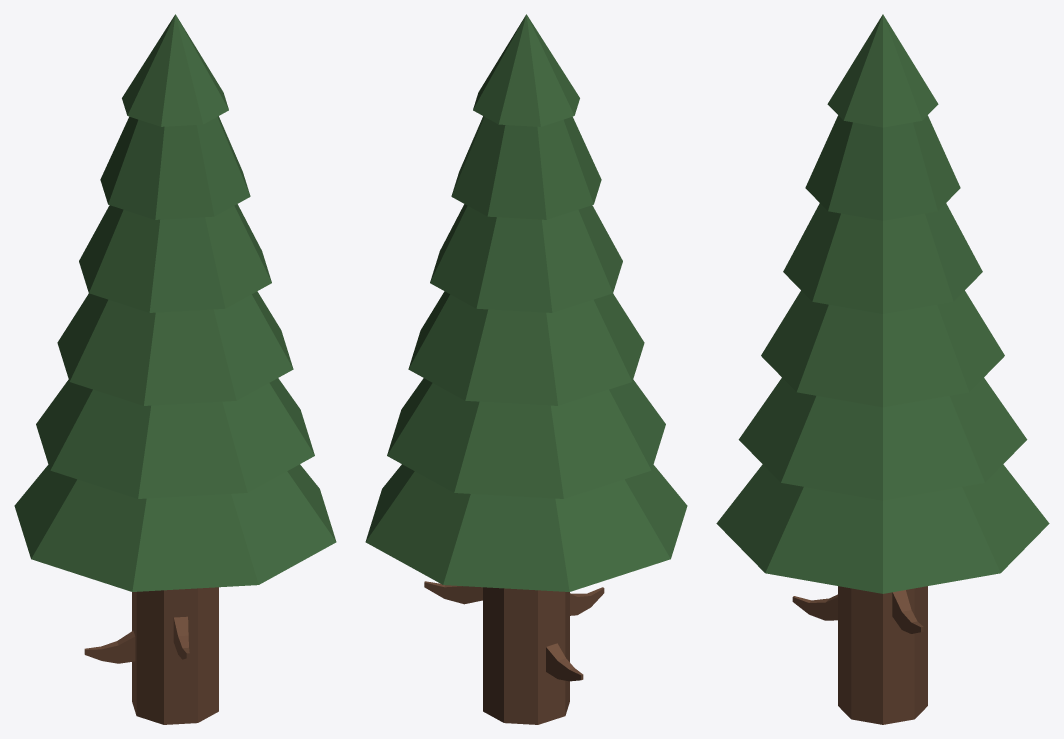
File: SmallFir.fbx
3 renders of one model, left to right at view 1: azimuth 30°, elevation 25°; view 2: azimuth 150°, elevation 25°; view 3: azimuth 270°, elevation 25°, orthographic.
Visible parts, largest first — view 1: node_id79.001, SmallFir; view 2: node_id79.001, SmallFir; view 3: node_id79.001, SmallFir.
Part boxes in pixels (x1=…): node_id79.001: x1=14, y1=14, x2=336, y2=591; SmallFir: x1=84, y1=587, x2=218, y2=724; node_id79.001: x1=365, y1=14, x2=687, y2=591; SmallFir: x1=424, y1=581, x2=604, y2=724; node_id79.001: x1=716, y1=14, x2=1049, y2=593; SmallFir: x1=792, y1=586, x2=927, y2=724.
Bounding box in the file's own units: 83.16 × 191 × 83.16.
